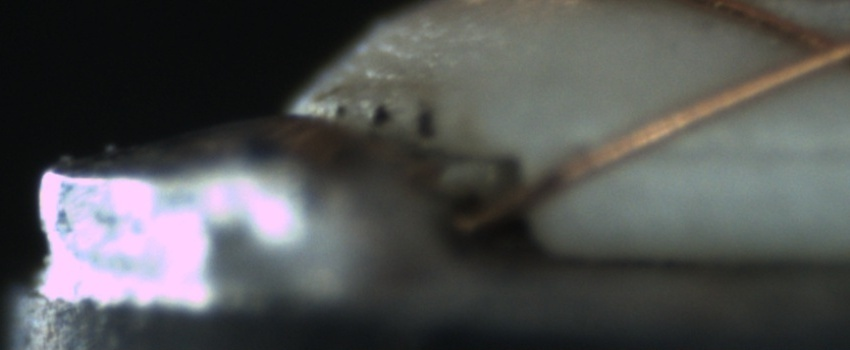CL: (771, 13, 849, 80)
DL: (634, 117, 849, 189)
